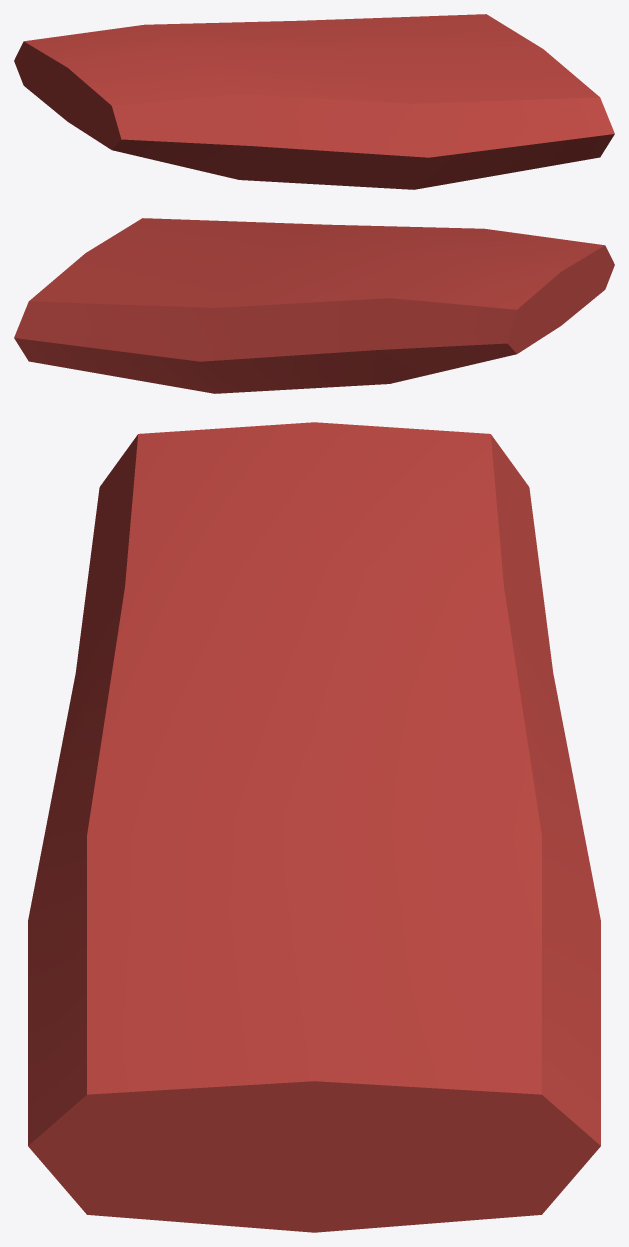
File: ducktail_lod2.glb
3 views of the same model, one above another, from view 1: azimuth 30°, elevation 25°; view 2: azimuth 150°, elevation 25°; view 3: azimuth 270°, elevation 25° (orthographic). The views are drawn at different scales.
Parts seen in each view (by area): view 1: ducktail_lod2; view 2: ducktail_lod2; view 3: ducktail_lod2.
Part boxes in pixels (box(x1,y1,x2,y2)): ducktail_lod2: box(14, 14, 614, 189); ducktail_lod2: box(14, 218, 614, 393); ducktail_lod2: box(28, 422, 600, 1232).
Bounding box in the file's own units: 0.46 × 0.16 × 0.24.
